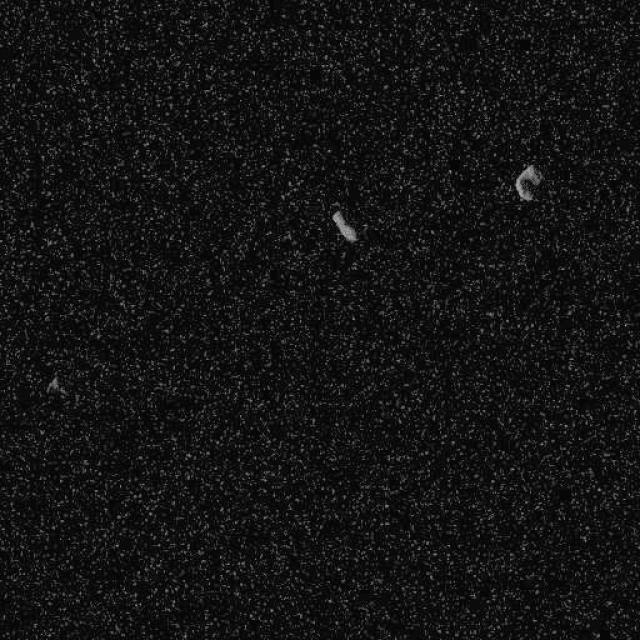D2: (514, 164, 542, 201), (330, 208, 358, 244), (45, 373, 66, 398)
